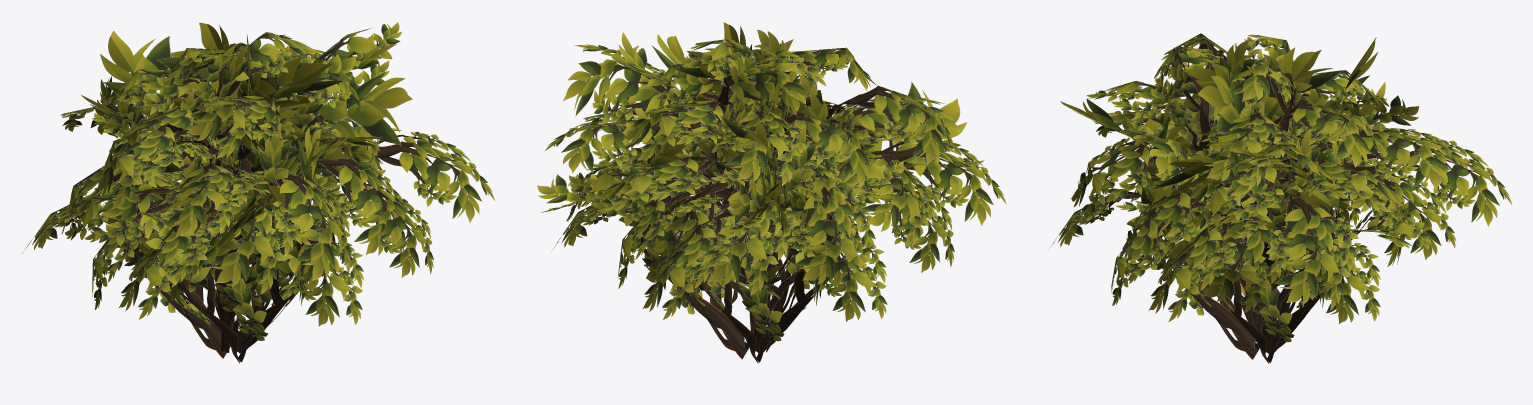
File: Bush_02.FBX
3 views of the same model, side by side, from view 1: azimuth 30°, elevation 25°; view 2: azimuth 150°, elevation 25°; view 3: azimuth 270°, elevation 25° (orthographic). The views are drawn at different scales.
Visible parts, largest first — view 1: Bush_02; view 2: Bush_02; view 3: Bush_02.
Boxes of the visible parts, box(x1,y1,x2,y2) form: Bush_02: box(22, 22, 494, 363); Bush_02: box(537, 22, 1006, 363); Bush_02: box(1051, 33, 1512, 364).
Bounding box in the file's own units: 2.79 × 2.32 × 2.79.
